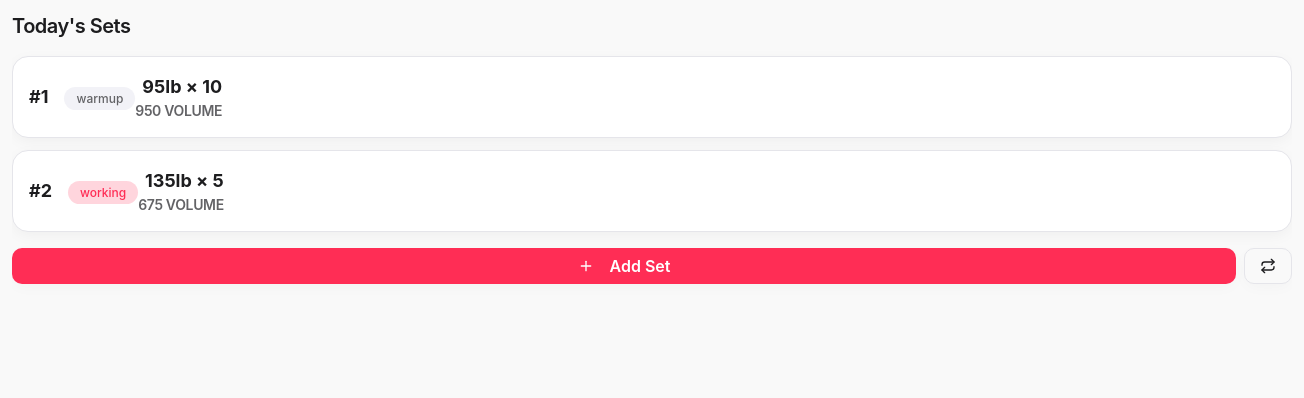
ExerciseSets repeat button › appends a copy of the last logged set
Expected: the number of buttons with test id "exercise-card" is 2, [12,56,1292,138]; [12,150,1292,232]
Click the button named "Repeat last set": (1268, 266) [1244,248,1292,284]
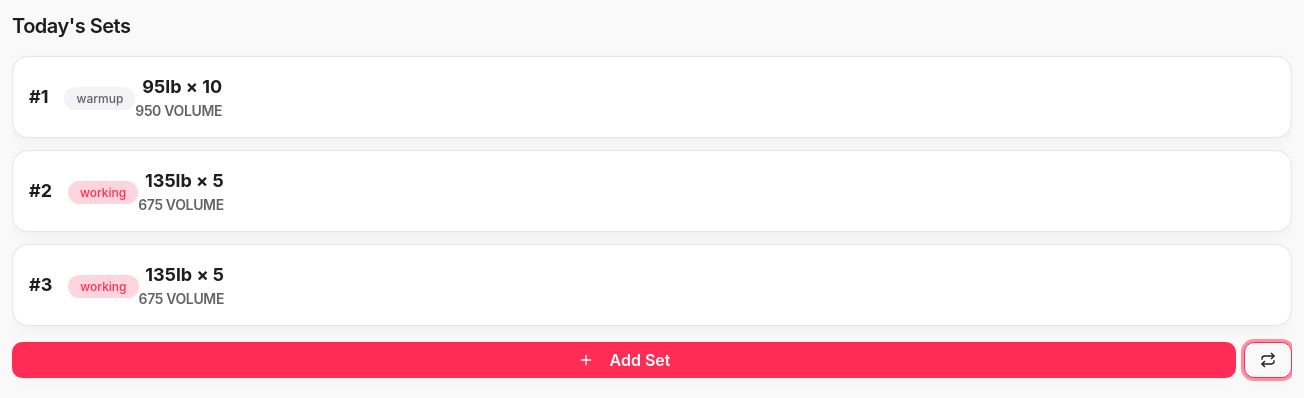
Expected: the number of buttons with test id "exercise-card" is 3, [12,56,1292,138]; [12,150,1292,232]; [12,244,1292,326]
Expected: the button with test id "exercise-card" shows "135lb × 5", [12,244,1292,326]
Expected: the button with test id "exercise-card" shows "working", [12,244,1292,326]
